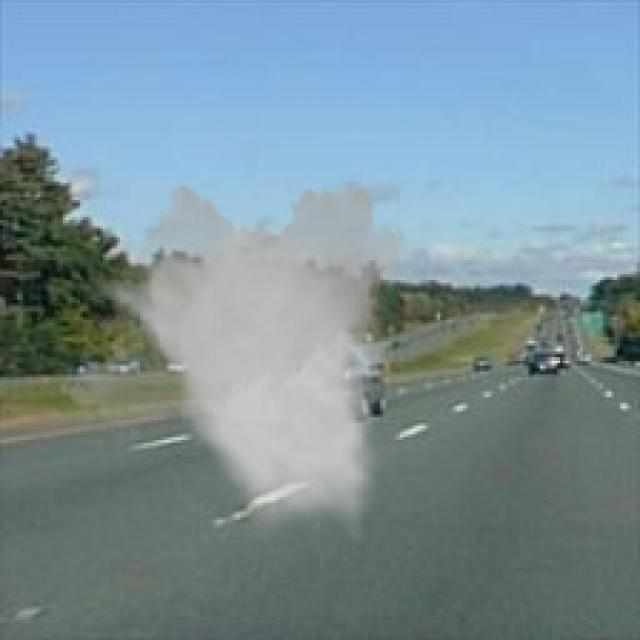Smoke: (57, 175, 420, 540)
